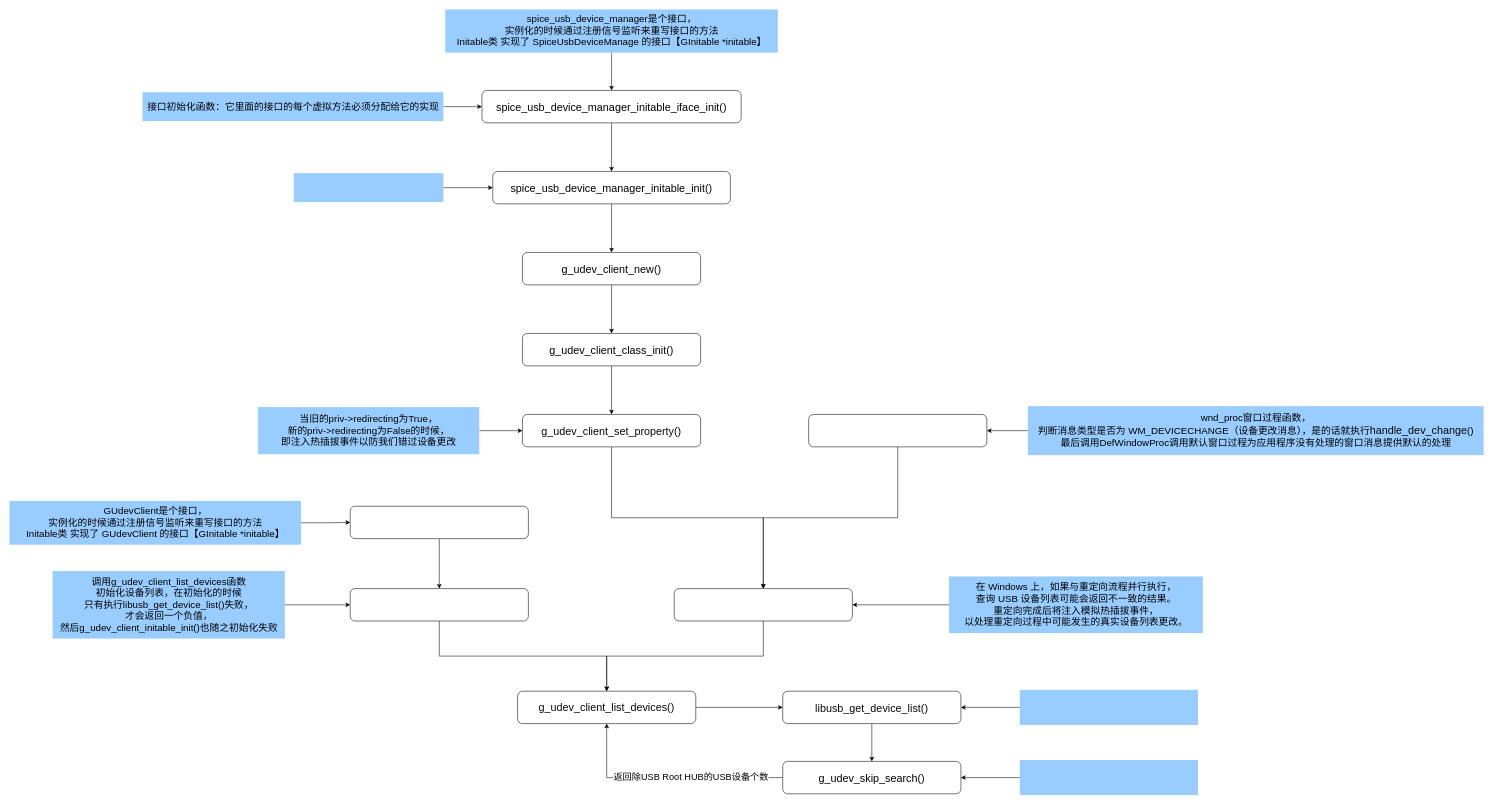
Image size: 1493x804. Some labels were removed from this diagram. The centre of each missing label's shape, as x and y in pixels:
"g_udev_client_initable_iface_init()" belongs at point (439, 522).
"g_udev_client_initable_init ()" belongs at point (439, 604).
"handle_dev_change ()" belongs at point (763, 604).
"wnd_proc ()" belongs at point (897, 430).
"在启动过程中，只执行了一次" belongs at point (368, 187).
"获得当前连接到系统的 USB 设备列表" belongs at point (1109, 707).
"跳过USB的 root hub" belongs at point (1109, 777).
